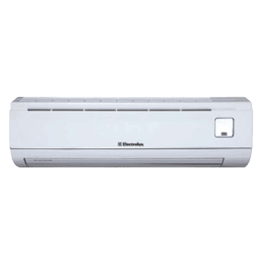ac: (7, 90, 255, 170)
